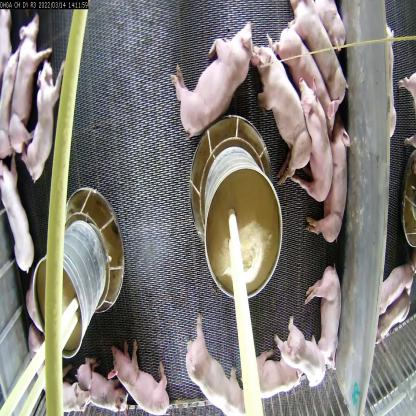Pig: (164, 15, 253, 132), (250, 23, 312, 190), (266, 17, 343, 132), (290, 0, 351, 113), (188, 310, 252, 414), (302, 116, 352, 249), (106, 334, 175, 414), (296, 71, 333, 206), (11, 11, 45, 154), (302, 259, 344, 373), (272, 308, 329, 392), (24, 56, 64, 174), (0, 157, 36, 282), (250, 342, 307, 399), (75, 353, 128, 412)
